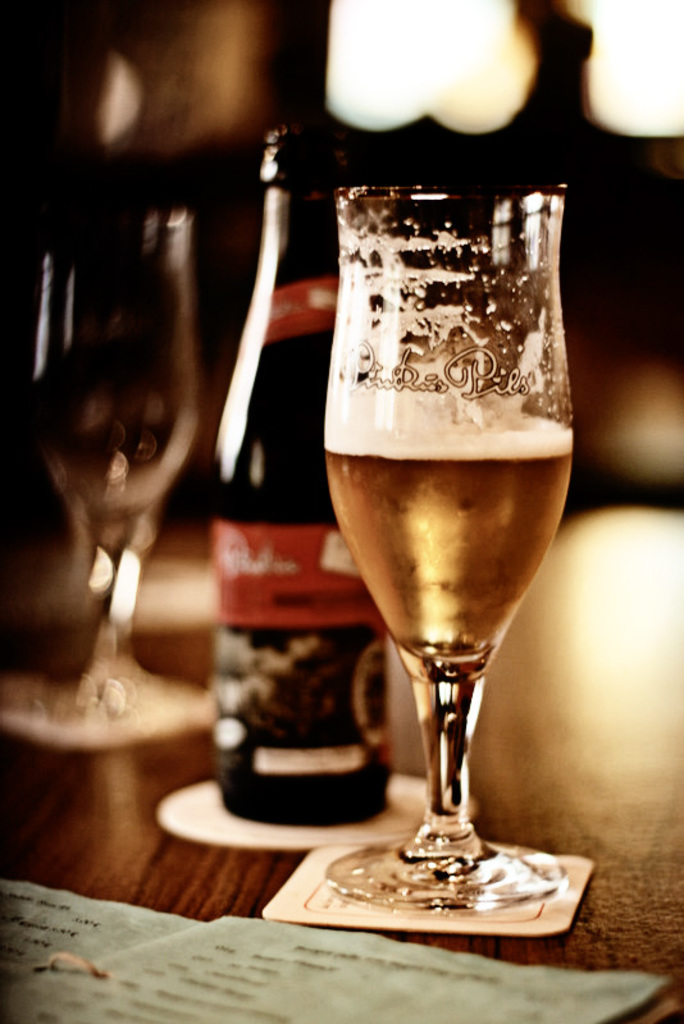Beer: (320, 394, 567, 648)
